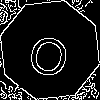O: (25, 25, 75, 80)
